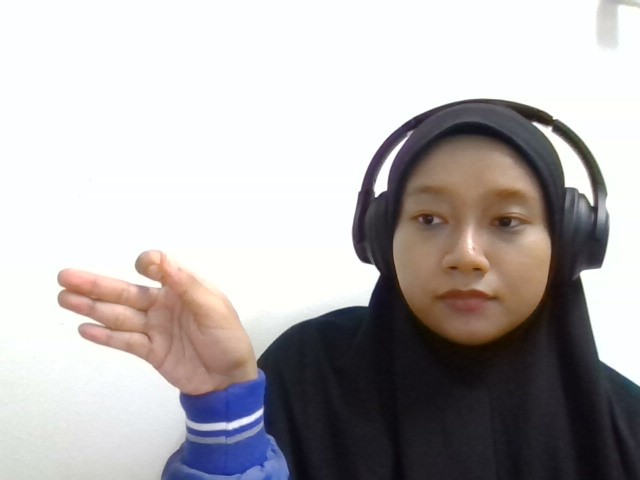Tudung: (57, 249, 259, 395)
